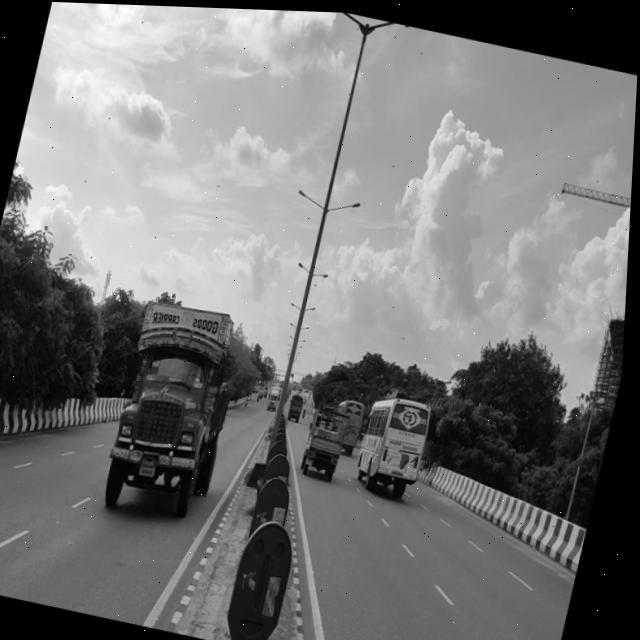bus: (350, 378, 445, 505)
truck: (101, 281, 248, 527), (298, 398, 356, 479)
